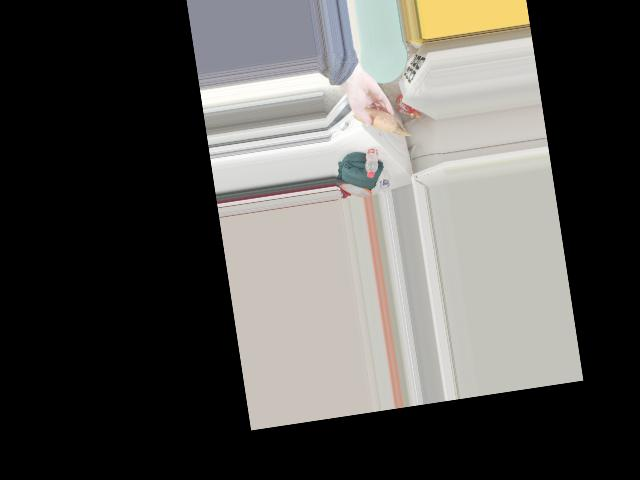sweet_potato: (357, 101, 394, 134)
